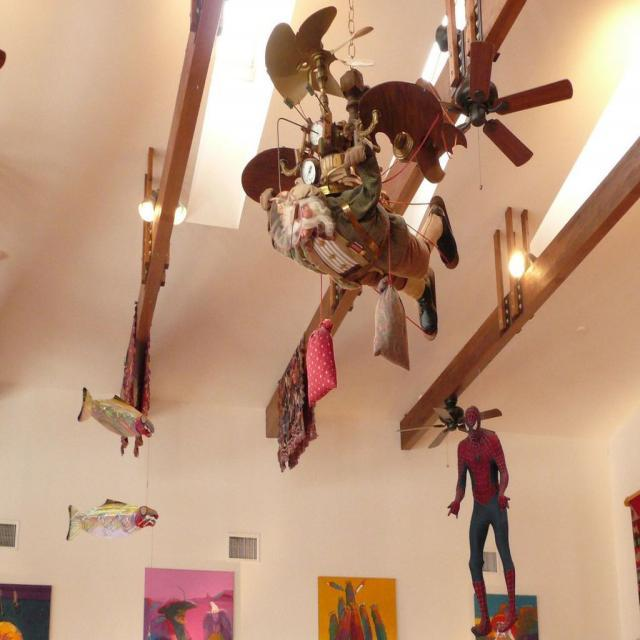bulb_on: (512, 250, 528, 276), (136, 201, 156, 220), (176, 208, 189, 227)
fan_off: (429, 0, 578, 167), (394, 397, 496, 454)
